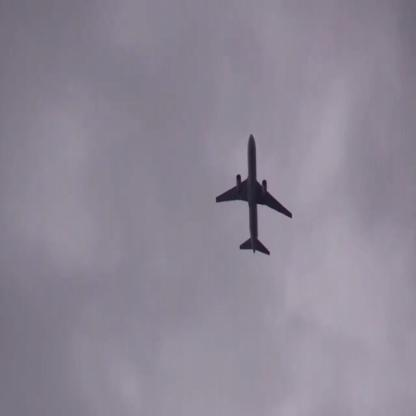CIV_Plane: (215, 134, 293, 254)
